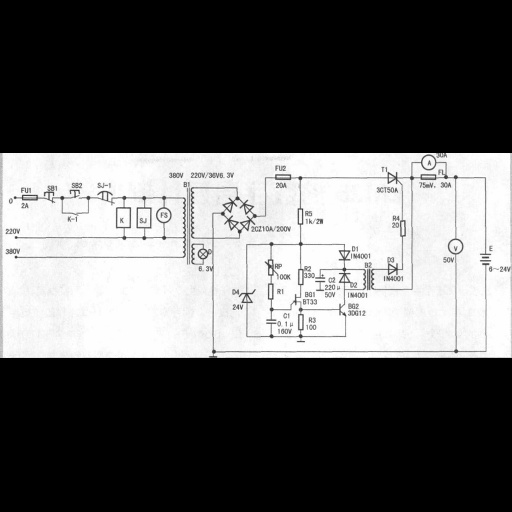battery: (478, 252, 494, 266)
capacitor: (264, 317, 277, 327)
firstpolarcapacitor: (315, 271, 326, 283)
firstresistance: (295, 207, 304, 228), (266, 283, 275, 302), (295, 267, 304, 286), (400, 219, 408, 239), (297, 314, 305, 331)
fuse: (272, 172, 294, 182), (19, 193, 40, 202), (419, 173, 438, 181)
light: (197, 247, 208, 262)
rectifierbridge: (220, 196, 257, 235)
seconddiode: (336, 249, 351, 263), (385, 263, 401, 276)
transformer: (180, 186, 196, 266), (361, 269, 378, 290)
